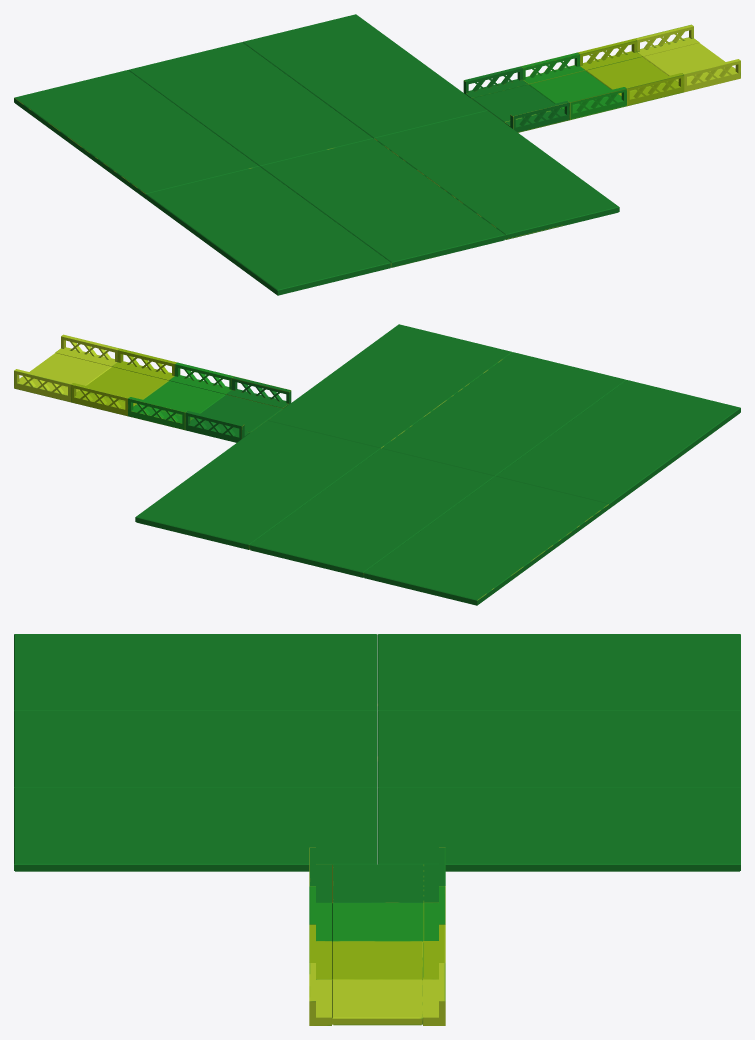
File: Castle_Floor.fbx
3 views of the same model, one above another, from view 1: azimuth 30°, elevation 25°; view 2: azimuth 150°, elevation 25°; view 3: azimuth 270°, elevation 25° (orthographic). The views are drawn at different scales.
Parts seen in each view (by area): view 1: TM; view 2: TM; view 3: TM.
Part boxes in pixels (<box>): TM: <box>14,14,740,295</box>; TM: <box>14,324,740,605</box>; TM: <box>14,634,740,1025</box>.
Bounding box in the file's own units: 31992 × 956 × 25592.
1 material, 1 textured.
